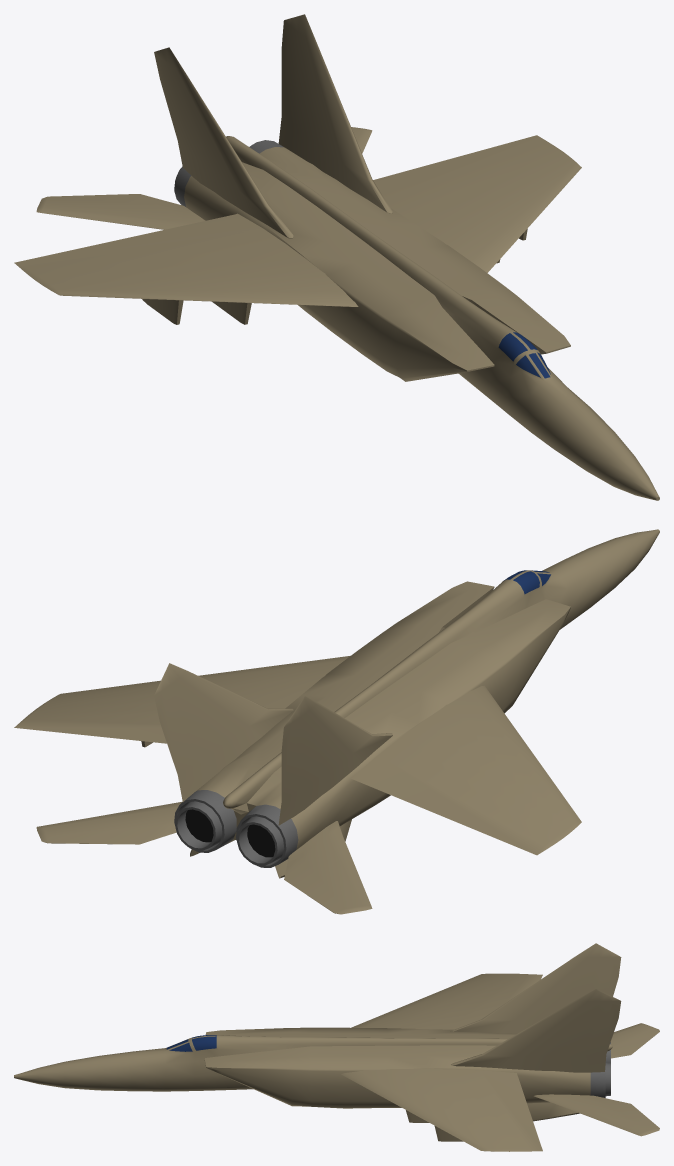
File: mig25.glb
3 renders of one model, top to bottom at view 1: azimuth 30°, elevation 25°; view 2: azimuth 150°, elevation 25°; view 3: azimuth 270°, elevation 25°, orthographic. The views are drawn at different scales.
Visible parts, largest first — view 1: Mig_25.001; view 2: Mig_25.001; view 3: Mig_25.001.
Part boxes in pixels (left/top/right/bottom): Mig_25.001: left=14, top=14, right=659, bottom=500; Mig_25.001: left=14, top=529, right=659, bottom=914; Mig_25.001: left=14, top=943, right=659, bottom=1151.
Size of the model in its own units: 13.99 by 5.13 by 21.44.
